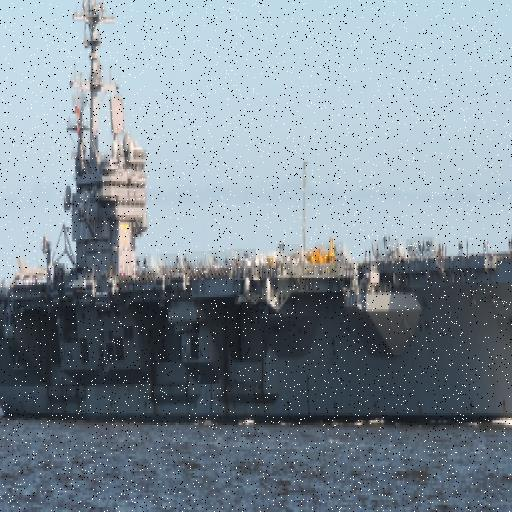Portanaves: (1, 1, 512, 441)
